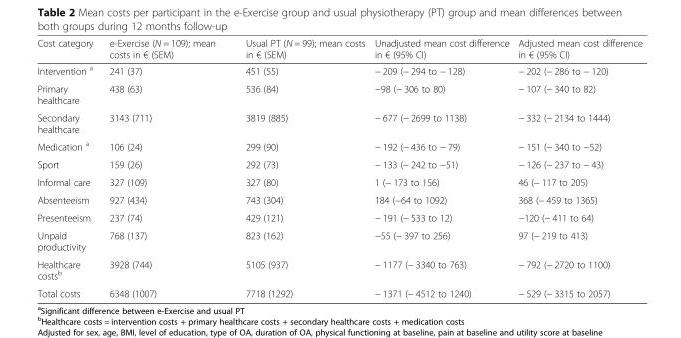table: (36, 37, 641, 298)
table column: (369, 37, 512, 298), (229, 37, 369, 298), (100, 37, 229, 298), (512, 37, 641, 298), (36, 37, 100, 298)
table column header: (36, 37, 641, 61)
table row: (36, 225, 641, 255), (36, 79, 641, 108), (36, 255, 641, 284), (36, 108, 641, 136), (36, 37, 641, 61), (36, 136, 641, 155), (36, 61, 641, 79), (36, 172, 641, 190), (36, 190, 641, 208), (36, 155, 641, 172), (36, 208, 641, 225), (36, 284, 641, 298)
